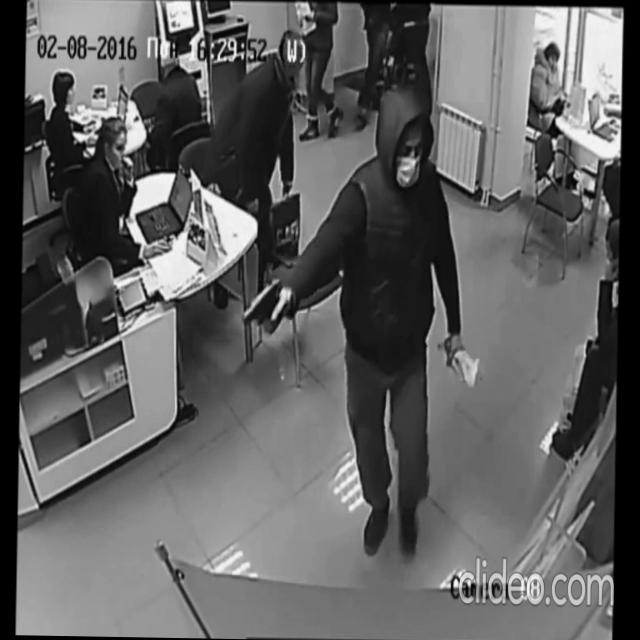gun: (241, 275, 282, 331)
person: (204, 24, 306, 250), (74, 114, 174, 276), (288, 0, 349, 145), (524, 39, 581, 188), (44, 68, 100, 185)
person with a gun: (237, 78, 470, 561)
